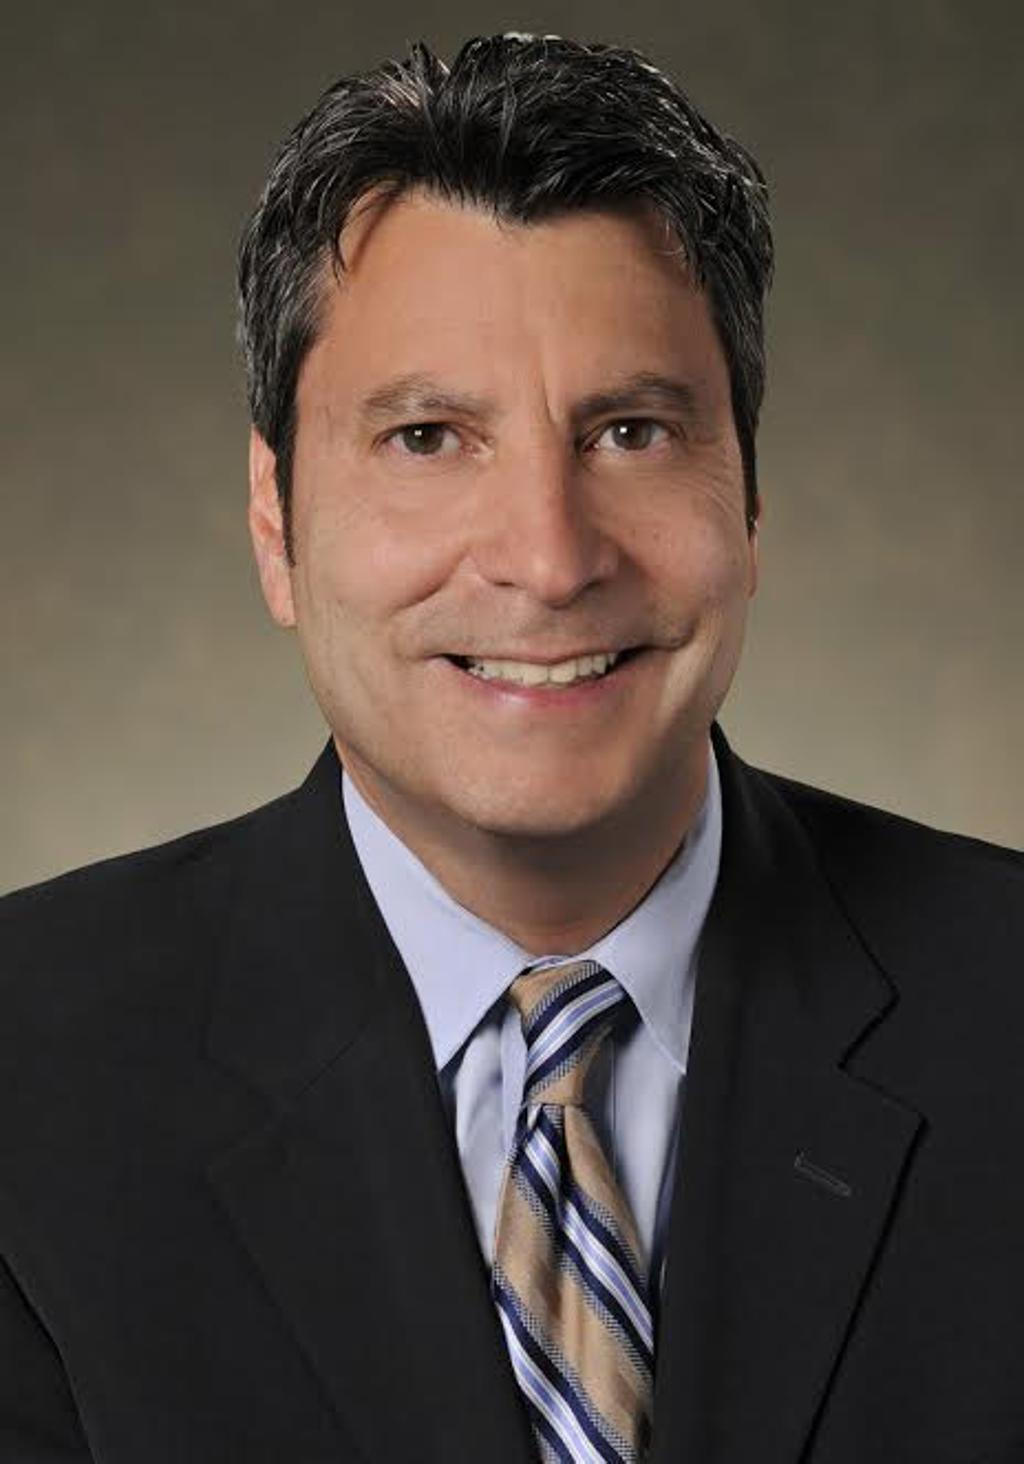face: (292, 206, 755, 841)
